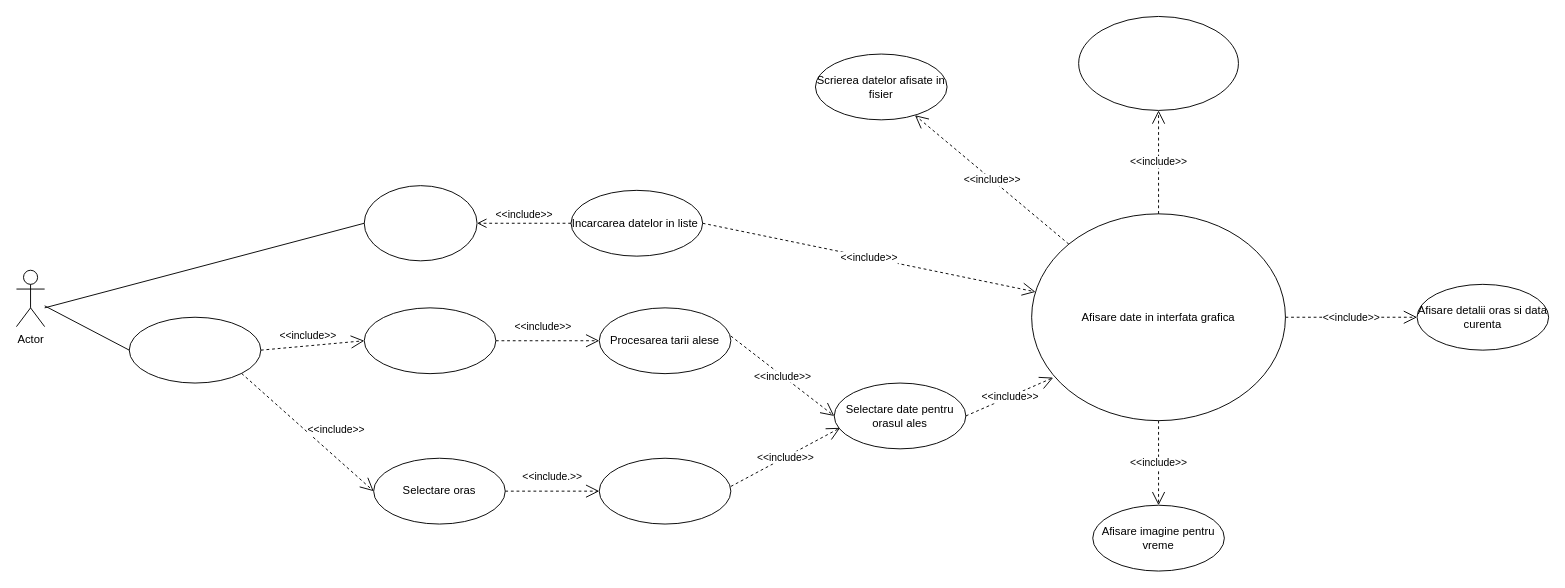
Some shapes in this 1565 by 588 pixel diagram are drawn without their labels. The shapes that lost their labels are listed below. From the top down, each one's centre as x and y in pixels, then its label:
the point at 1158,63: Afisare detalii vreme
the point at 420,223: Citirea si salvarea datelor din fisier
the point at 194,349: Selectare optiuni
the point at 429,340: Selectare tara
the point at 664,490: Procesarea orasului ales
